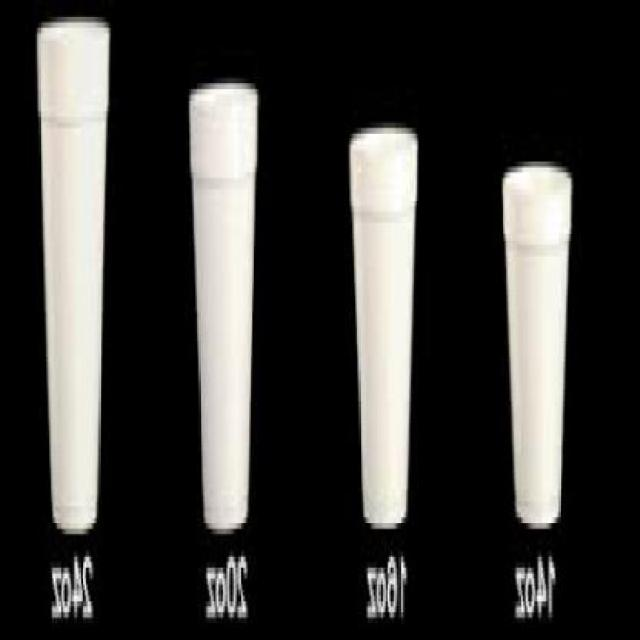PAPER: (40, 22, 114, 528), (349, 122, 423, 535), (192, 78, 259, 528), (502, 162, 572, 523)
